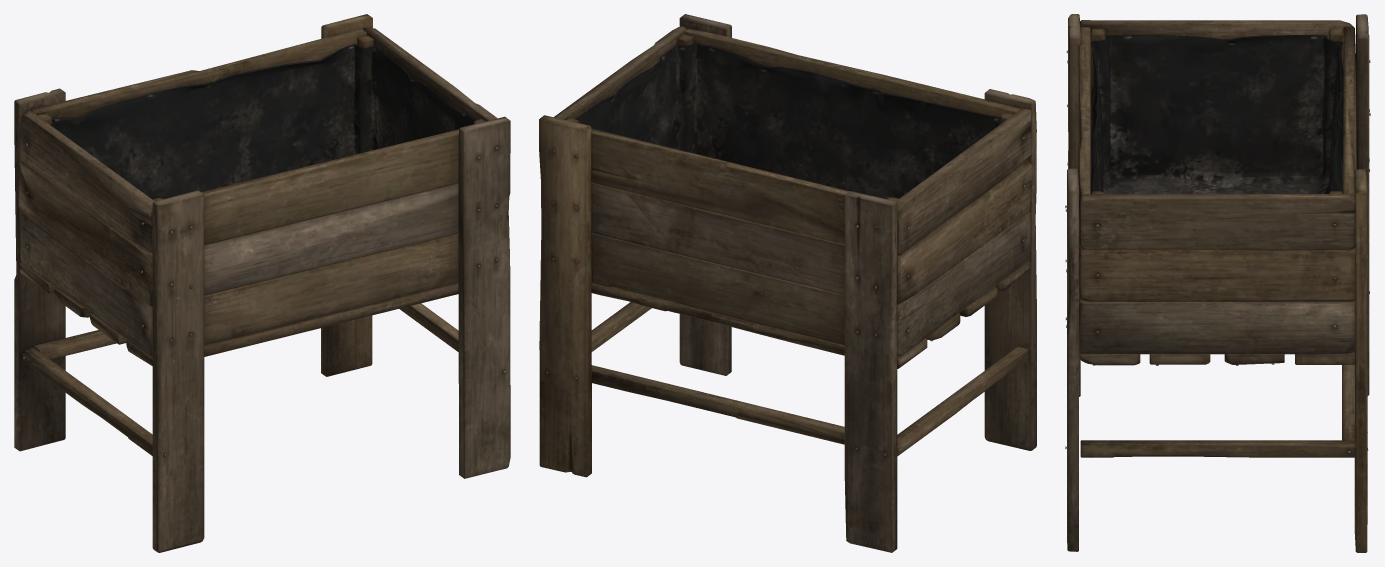
The model's file is planter_box_03.glb.
The picture shows the model from 3 angles, left to right: view 1: azimuth 30°, elevation 25°; view 2: azimuth 150°, elevation 25°; view 3: azimuth 270°, elevation 25°; orthographic projection. The views are drawn at different scales.
Visible parts, largest first — view 1: planter_box_03; view 2: planter_box_03; view 3: planter_box_03.
Boxes of the visible parts, left/top/right/bottom form: planter_box_03: left=14, top=14, right=510, bottom=552; planter_box_03: left=539, top=14, right=1036, bottom=552; planter_box_03: left=1065, top=14, right=1370, bottom=552.
Size of the model in its own units: 0.9144 by 0.8551 by 0.6555.
Materials: 1 (1 with a texture image).
